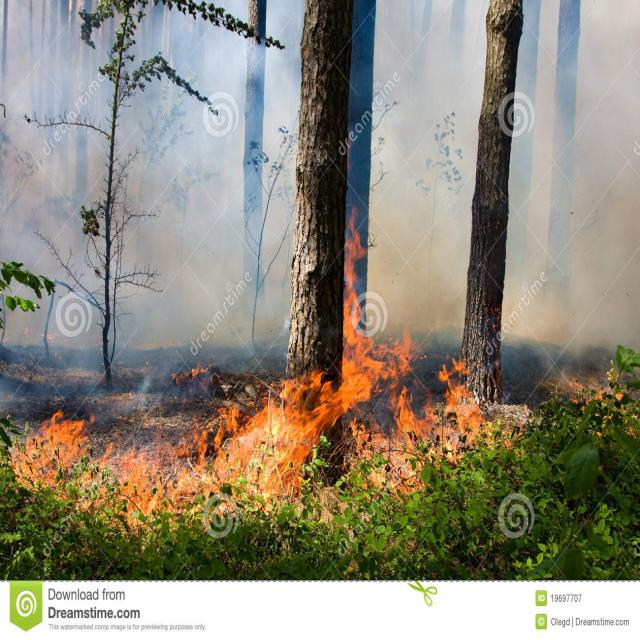Fire: (342, 368, 484, 496), (218, 377, 325, 515), (92, 438, 212, 538), (343, 253, 410, 422), (10, 401, 89, 501)
Smoke: (0, 0, 637, 350)
